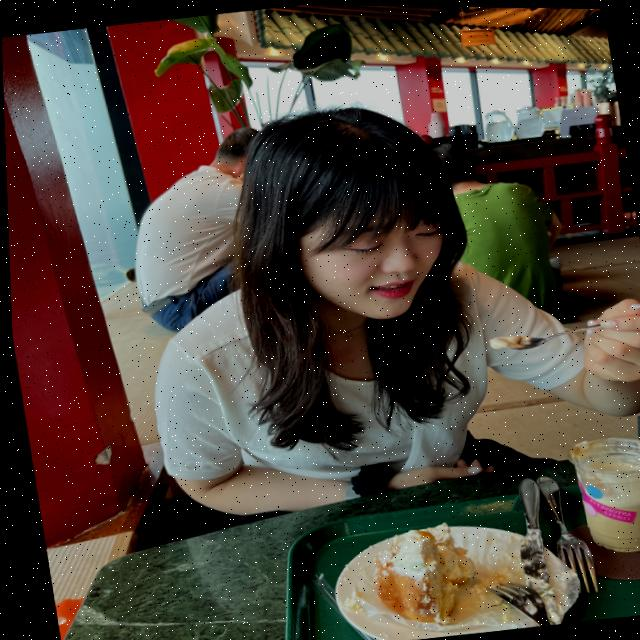eating-person: (88, 49, 640, 551)
